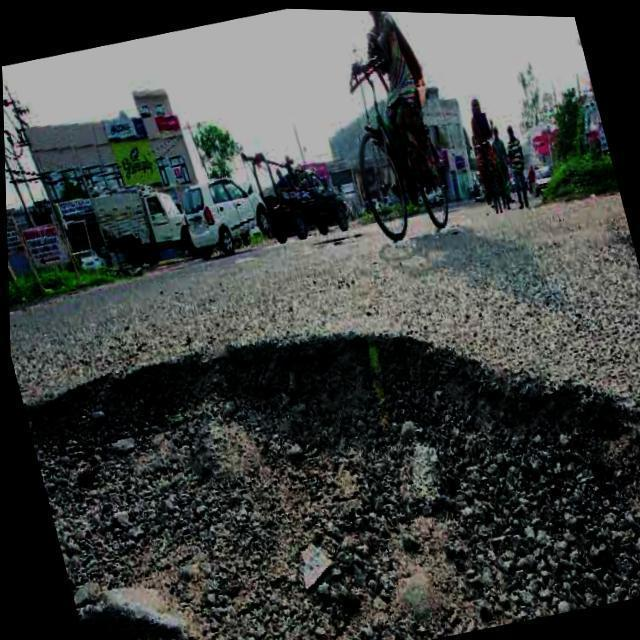Pothole: (19, 342, 640, 640)
